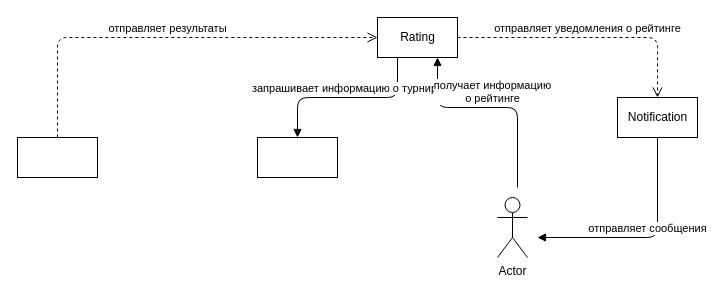
This 724x296 diagram has some shape labels left out. Each missing label, with the centre of its shape:
Game: the point at 57,157
Tournament: the point at 297,157
